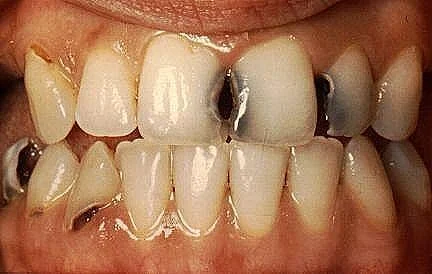karies: (202, 65, 249, 131), (8, 135, 46, 188), (308, 69, 337, 133), (69, 202, 103, 233), (21, 41, 53, 67), (26, 205, 47, 223)
